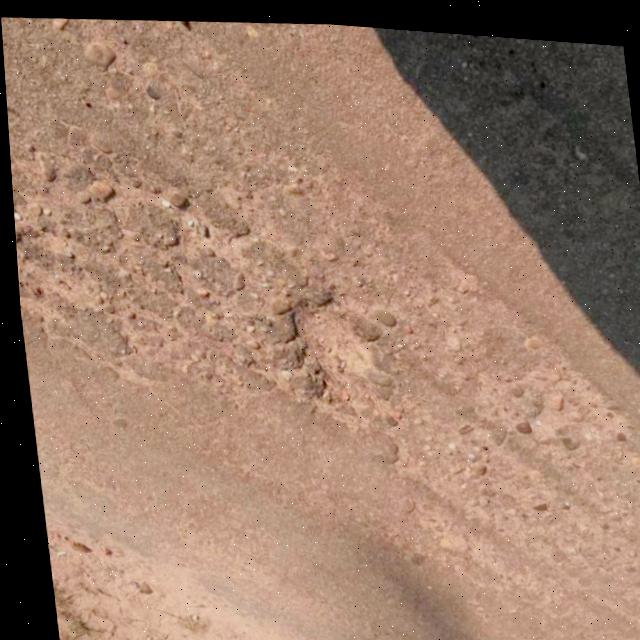Pothole: (276, 286, 369, 393)
